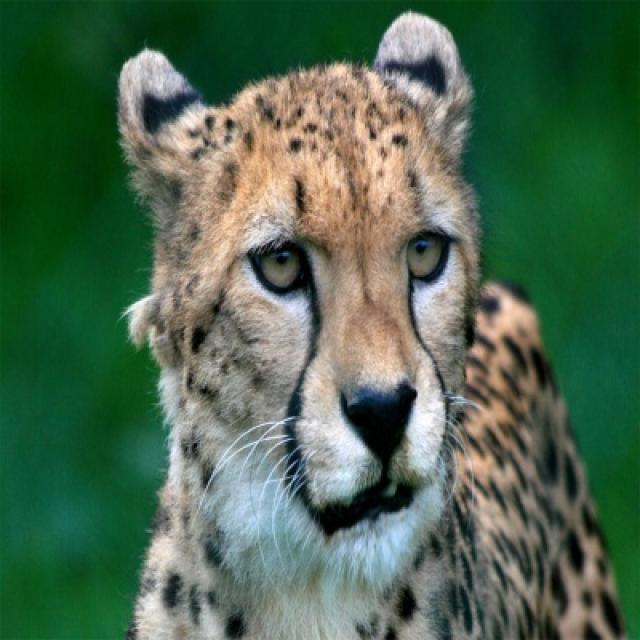Cheetah: (120, 13, 626, 638)
